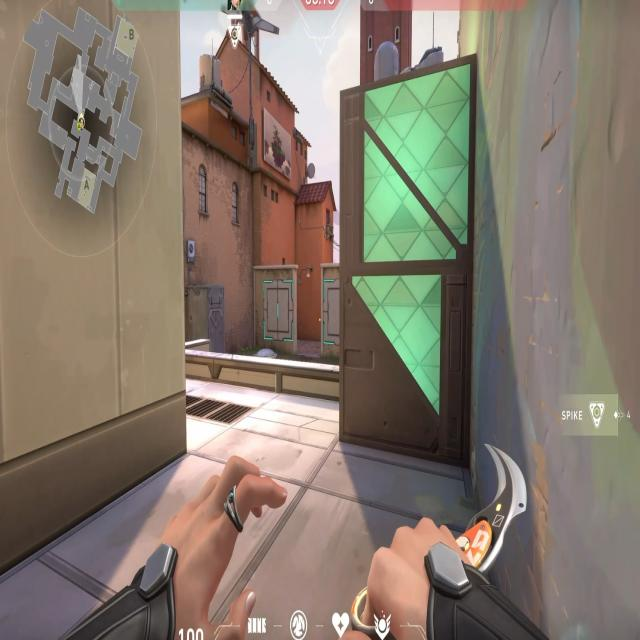Mid_Wall: (255, 248, 303, 359), (318, 266, 342, 356)
